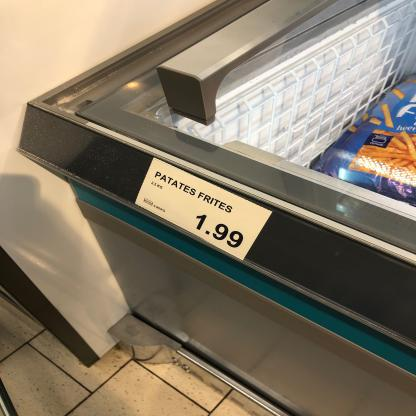prtg: (135, 158, 274, 262)
